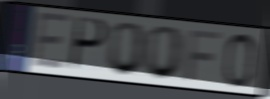E: (30, 9, 73, 71)
F: (183, 28, 223, 83)
O: (142, 25, 187, 82), (105, 21, 149, 78), (221, 32, 259, 90)
P: (67, 15, 109, 74)
